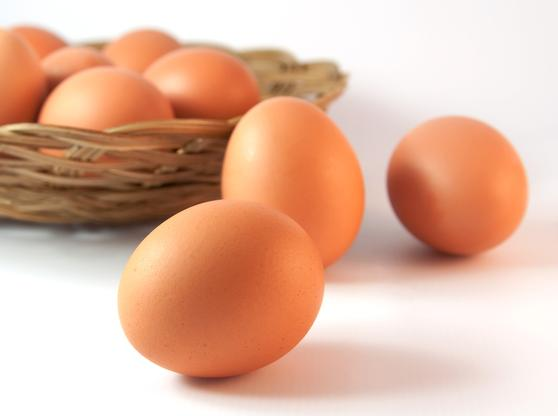egg: (108, 193, 336, 387), (386, 116, 532, 258)
